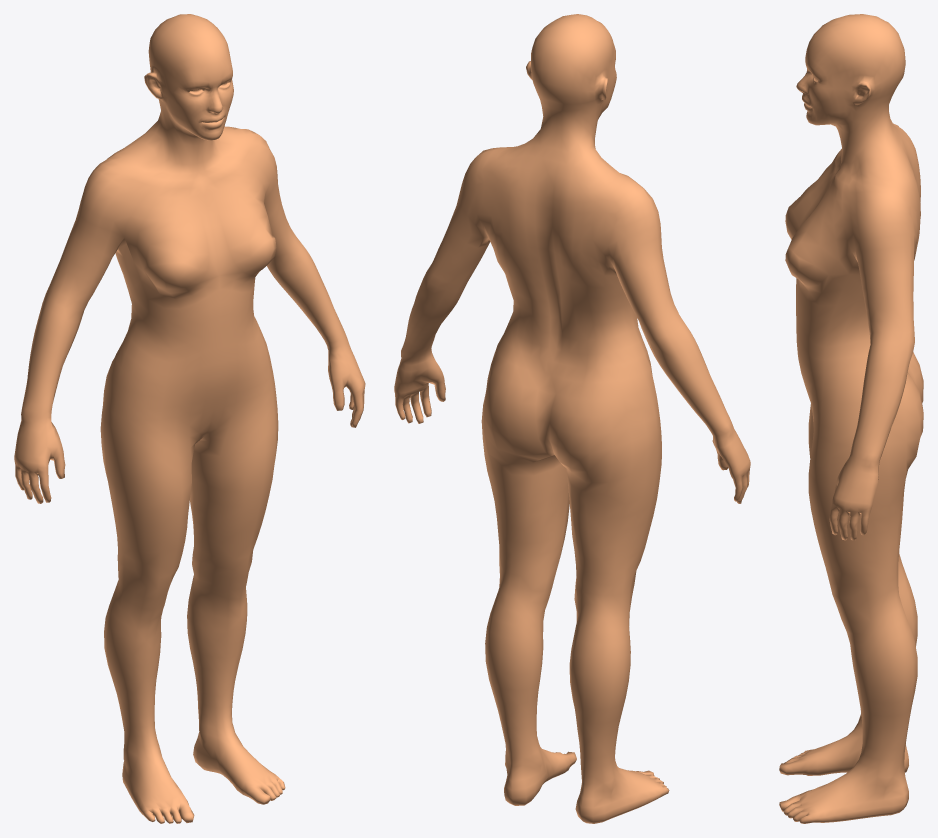
File: waistgeneric.obj
3 renders of one model, left to right at view 1: azimuth 30°, elevation 25°; view 2: azimuth 150°, elevation 25°; view 3: azimuth 270°, elevation 25°, orthographic.
Parts seen in each view (by area): view 1: waistgeneric_Realistic_White_Female_Low_Poly; view 2: waistgeneric_Realistic_White_Female_Low_Poly; view 3: waistgeneric_Realistic_White_Female_Low_Poly.
Part boxes in pixels (bbox=[...]): waistgeneric_Realistic_White_Female_Low_Poly: bbox=[14, 14, 365, 823]; waistgeneric_Realistic_White_Female_Low_Poly: bbox=[394, 14, 750, 823]; waistgeneric_Realistic_White_Female_Low_Poly: bbox=[779, 14, 923, 823].
Size of the model in its own units: 0.7723 by 1.66 by 0.2793.
